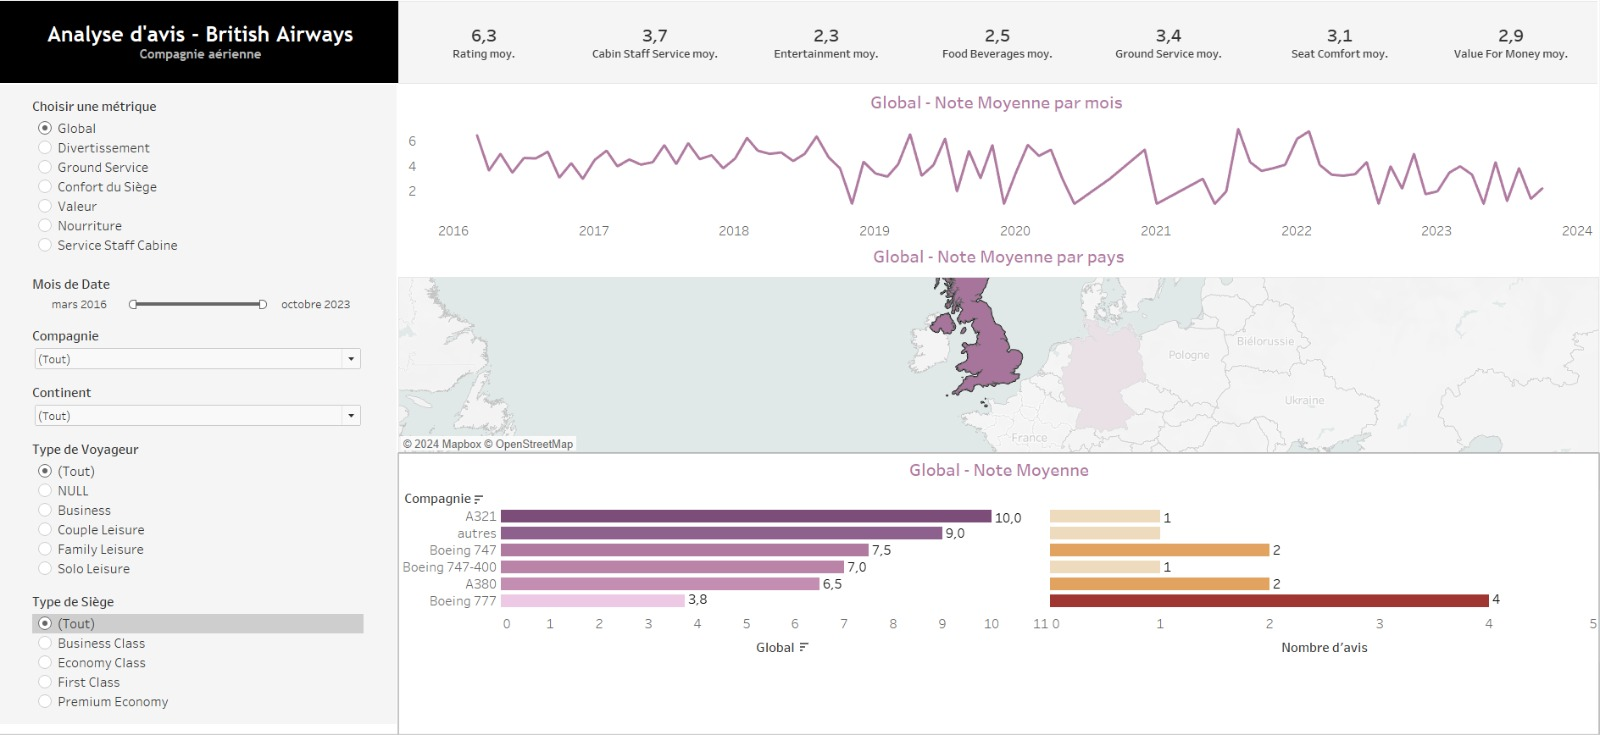

What the dashboard file says about the page in this screenshot:
{"tool":"tableau","page":{"name":"Tableau de bord 1","canvas":[1000,1000],"units":"permille","ordinal":0},"visuals":[{"type":"text","box":[0,9.2,251.6,111.1]},{"type":"worksheet","title":"Résumé","mark":"Automatic","box":[249.5,9.2,749.5,112.3]},{"type":"parameter","param":"[Parameters].[Paramètre 1]","box":[0,122.6,248.6,246.3]},{"type":"worksheet","title":"Courbe","mark":"Automatic","rows":["Calculation_712976126572388352"],"cols":["date"],"box":[248.6,124.9,750.1,209.6]},{"type":"worksheet","title":"Carte","mark":"Automatic","box":[249.2,333.3,750.8,287.5]},{"type":"filter","title":"Courbe","param":"[federated.1j4kqg205u8opp1cl757n1copmmq].[tmn:date:qk]","box":[0,368.8,248.6,69.9]},{"type":"filter","title":"Courbe","param":"[federated.1j4kqg205u8opp1cl757n1copmmq].[Aircraft (groupe)]","box":[0,438.7,248.6,76.8]},{"type":"filter","title":"Courbe","param":"[federated.1j4kqg205u8opp1cl757n1copmmq].[none:Continent:nk]","box":[0,515.5,248.6,76.8]},{"type":"filter","title":"Courbe","param":"[federated.1j4kqg205u8opp1cl757n1copmmq].[none:traveller_type:nk]","box":[0,592.2,248.6,206.2]},{"type":"filter","title":"Courbe","param":"[federated.1j4kqg205u8opp1cl757n1copmmq].[none:seat_type:nk]","box":[0,798.4,248.6,179.8]}]}

Visuals, with their boxes on the dashboard's canvas, which has no fixed pixel size, in thousandths of its width and height (x1, y1, x2, y2). These are canvas units, not pixel positions in the 1600x735 screenshot, which may show the page scaled, cropped or inside an application window:
text: 0:9:252:120
"Résumé" worksheet: 250:9:999:122
parameter: 0:123:249:369
"Courbe" worksheet: 249:125:999:334
"Carte" worksheet: 249:333:1000:621
"Courbe" filter: 0:369:249:439
"Courbe" filter: 0:439:249:516
"Courbe" filter: 0:516:249:592
"Courbe" filter: 0:592:249:798
"Courbe" filter: 0:798:249:978
